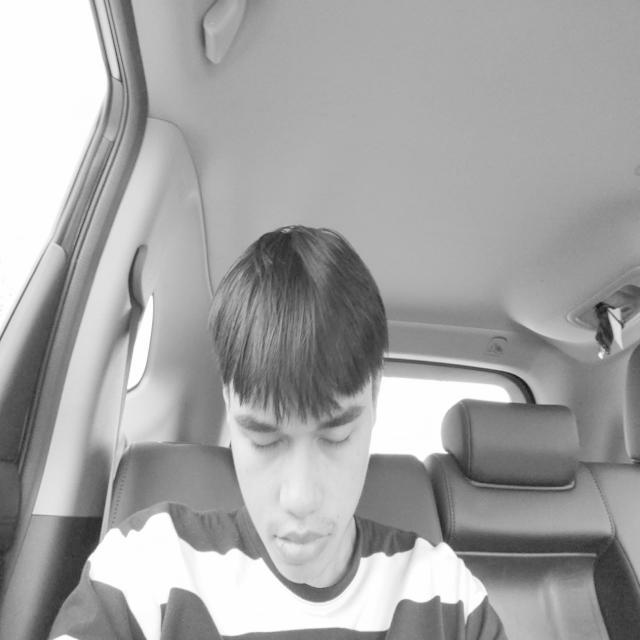sleepy: (234, 400, 365, 583)
